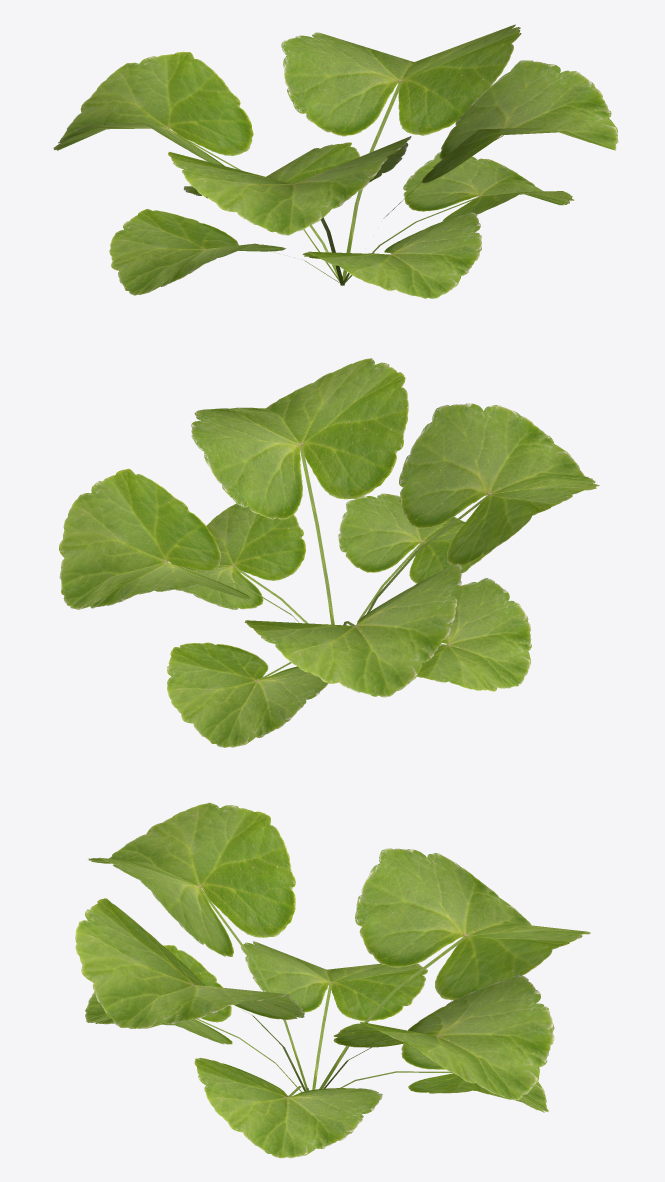
The model's file is plant_014.dae.
3 views of the same model, one above another, from view 1: azimuth 30°, elevation 25°; view 2: azimuth 150°, elevation 25°; view 3: azimuth 270°, elevation 25° (orthographic). The views are drawn at different scales.
Visible parts, largest first — view 1: Plant_014; view 2: Plant_014; view 3: Plant_014.
Boxes of the visible parts, x1=… form: Plant_014: x1=53, y1=24, x2=618, y2=298; Plant_014: x1=59, y1=358, x2=599, y2=747; Plant_014: x1=75, y1=802, x2=590, y2=1158.
Bounding box in the file's own units: 4.62 × 1.99 × 4.73.
